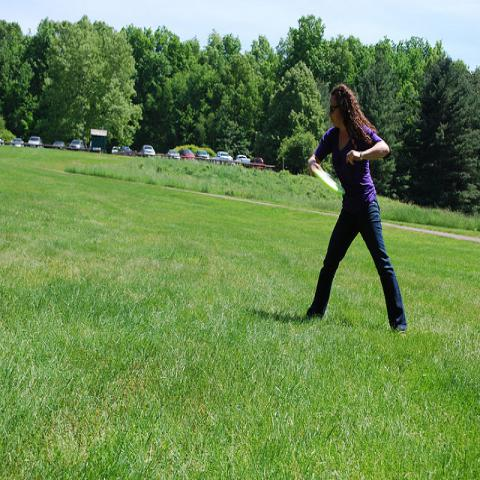car: (25, 139, 266, 173), (105, 139, 121, 155), (178, 148, 196, 158), (216, 151, 234, 161), (139, 145, 156, 155), (167, 150, 181, 160), (9, 138, 24, 147), (90, 140, 101, 152), (69, 140, 85, 148), (235, 154, 251, 162), (27, 135, 43, 143), (195, 150, 208, 159), (121, 145, 131, 152), (54, 140, 65, 146)
